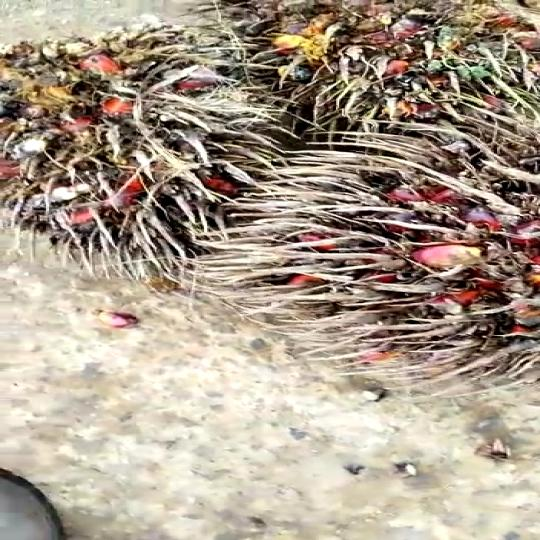terlalu masak: (200, 99, 540, 368), (0, 24, 257, 258)
